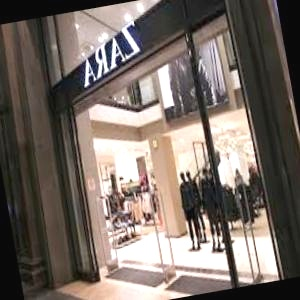zara: (90, 41, 222, 51)
